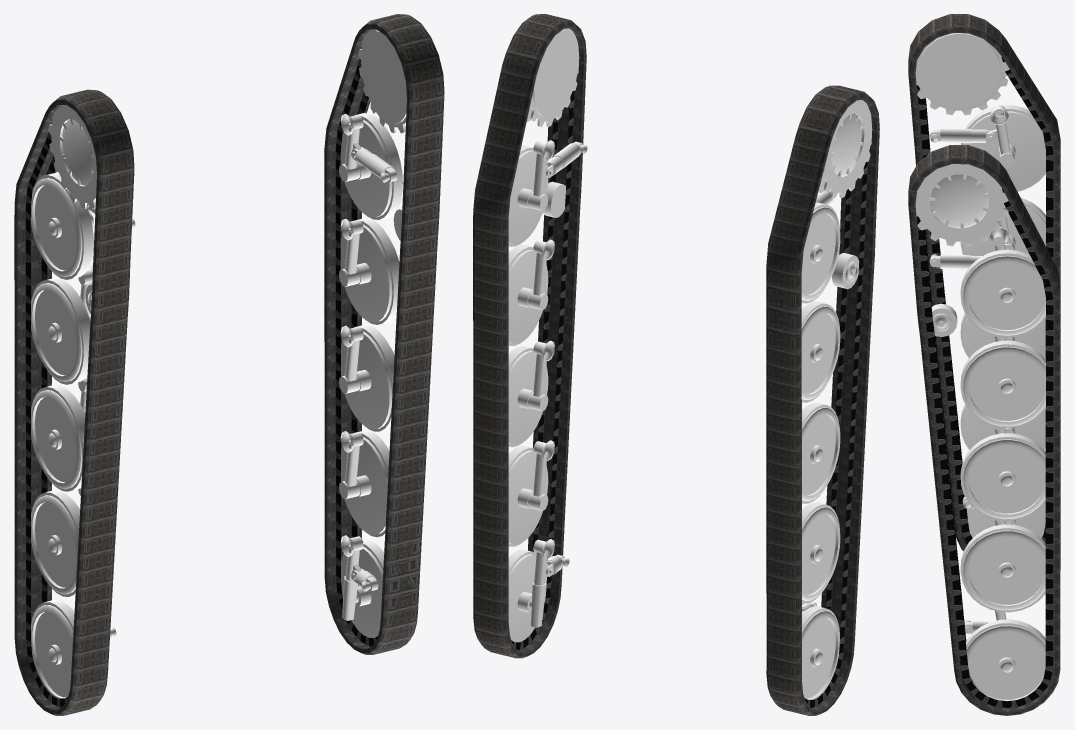
File: Chassis.glb
The picture shows the model from 3 angles, left to right: view 1: azimuth 30°, elevation 25°; view 2: azimuth 150°, elevation 25°; view 3: azimuth 270°, elevation 25°; orthographic projection. The views are drawn at different scales.
Visible parts, largest first — view 1: set_1_group_0, set_0_group_0, set_3_group_0, set_2_group_0; view 2: set_0_group_0, set_1_group_0, set_3_group_0, set_2_group_0; view 3: set_3_group_0, set_1_group_0, set_2_group_0, set_0_group_0.
Part boxes in pixels (box(x1,y1,x2,y2)): set_1_group_0: box(324, 14, 444, 654); set_0_group_0: box(14, 89, 134, 715); set_3_group_0: box(339, 29, 406, 637); set_2_group_0: box(30, 105, 135, 698); set_0_group_0: box(766, 85, 879, 715); set_1_group_0: box(473, 14, 586, 658); set_3_group_0: box(508, 28, 587, 642); set_2_group_0: box(801, 100, 872, 699); set_3_group_0: box(915, 164, 1045, 701); set_1_group_0: box(908, 145, 1060, 715); set_2_group_0: box(915, 33, 1045, 538); set_0_group_0: box(908, 14, 1060, 551).
Bounding box in the file's own units: 2.39 × 4.27 × 1.06.
4 materials, 2 textured.
